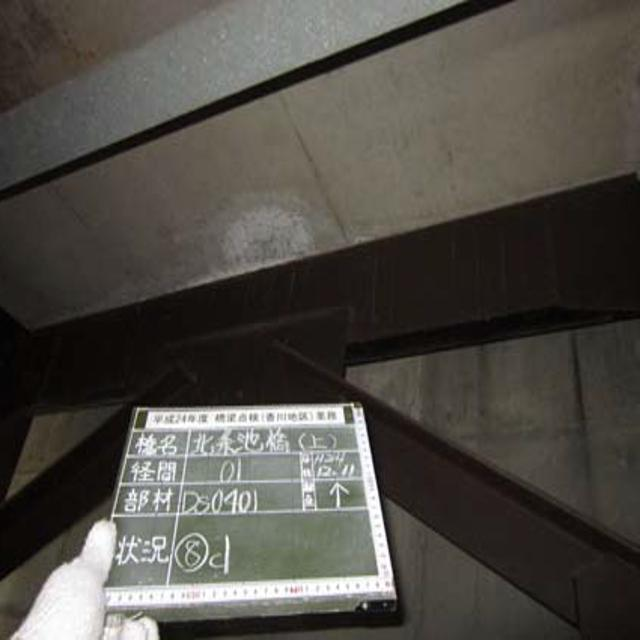freelime: (187, 179, 314, 280)
